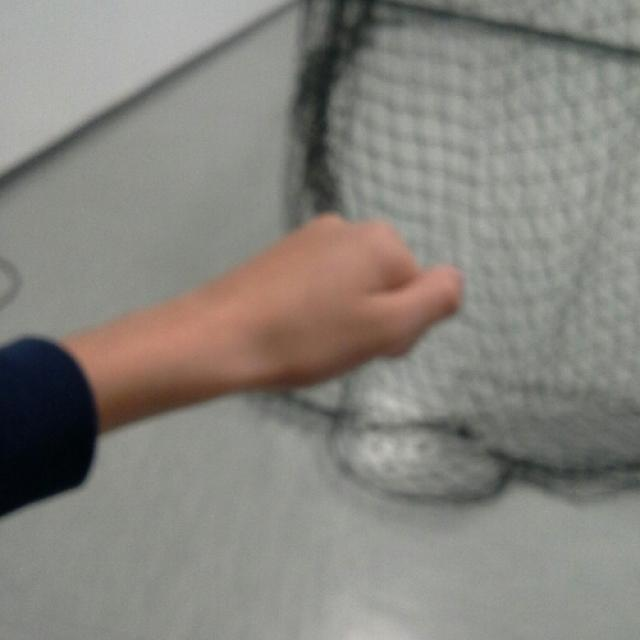fist: (237, 216, 468, 404)
